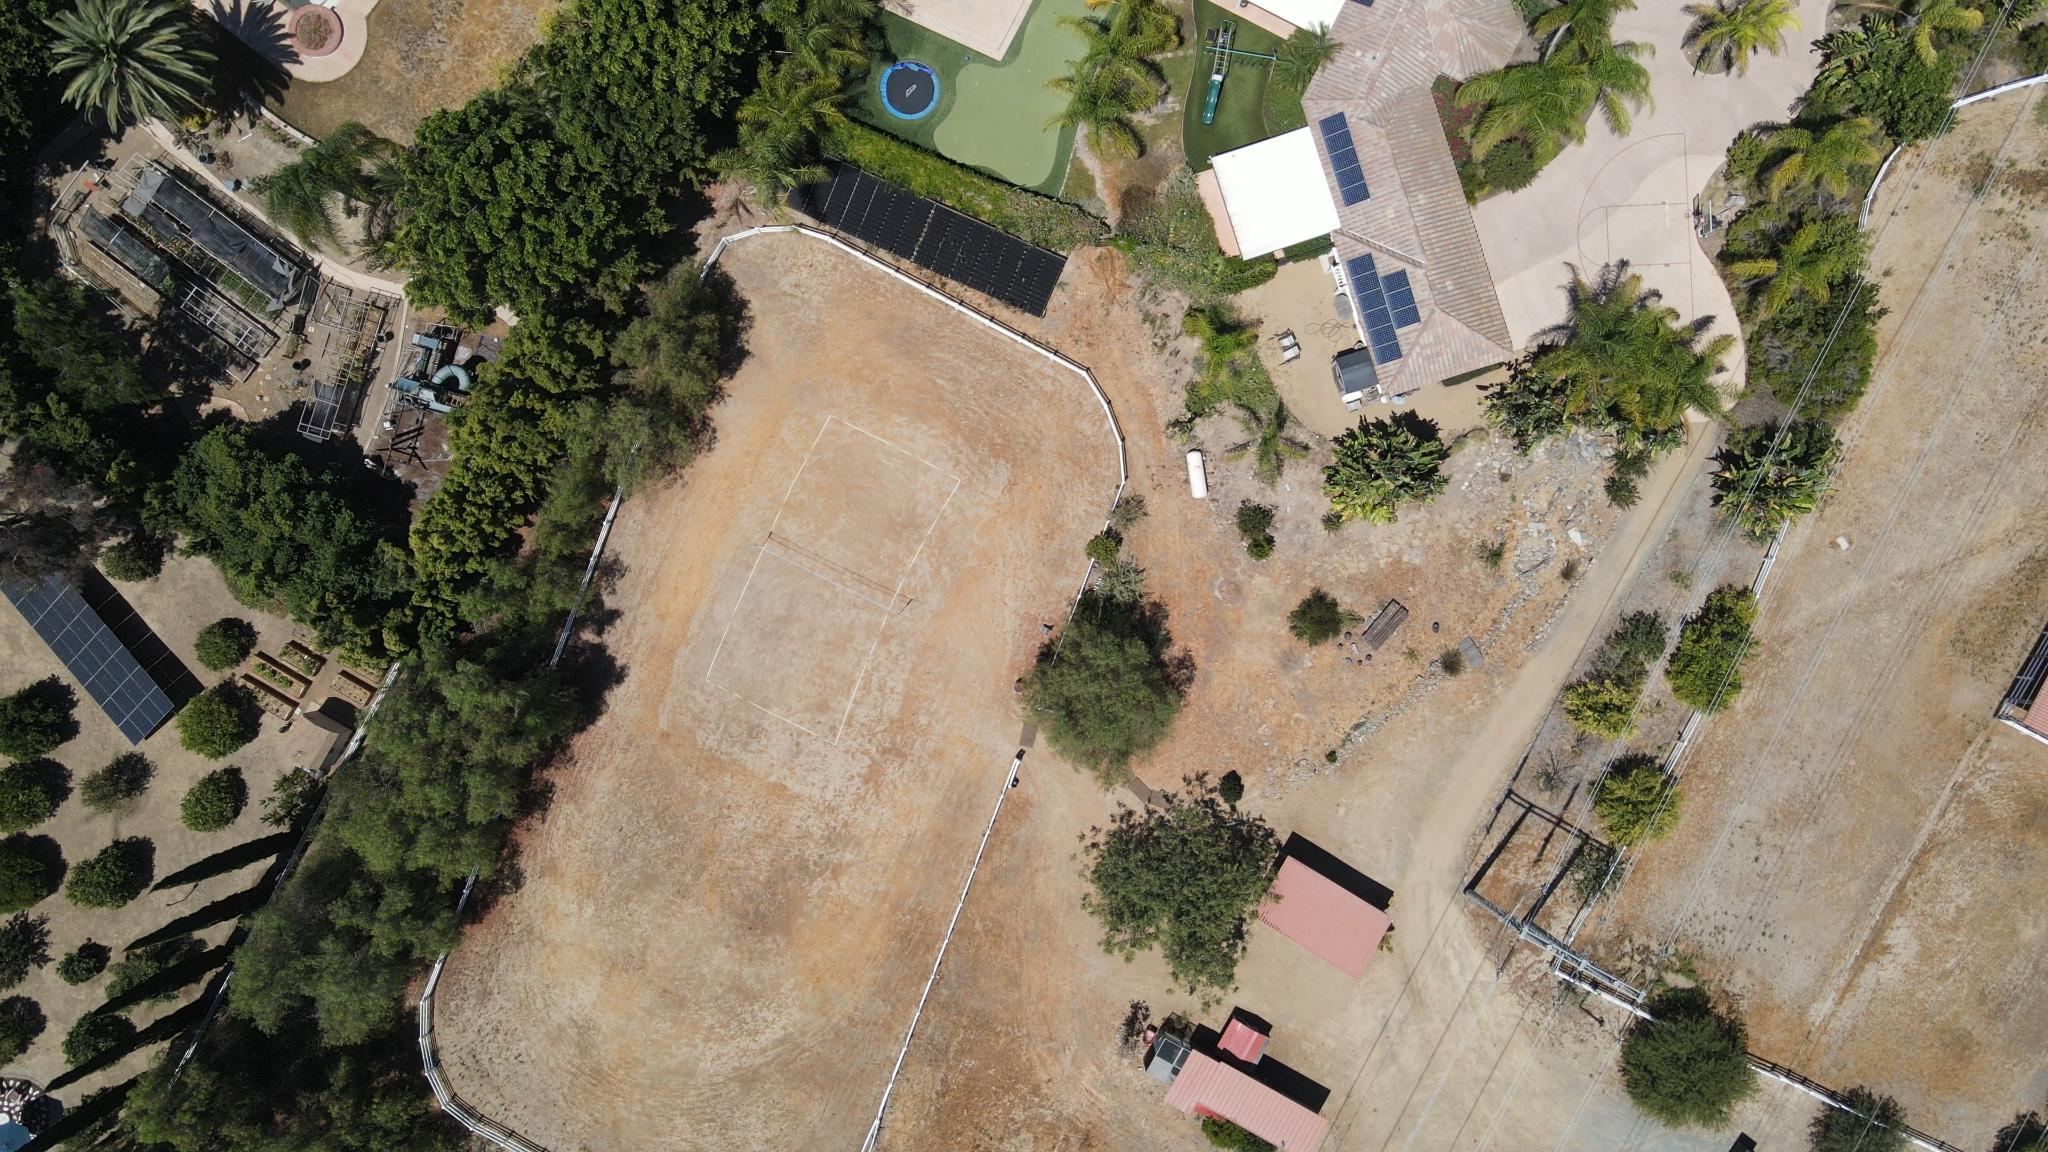solar-panels: (783, 151, 1068, 319), (0, 547, 173, 745), (1345, 250, 1421, 366), (1318, 111, 1371, 207), (1350, 0, 1374, 7)
